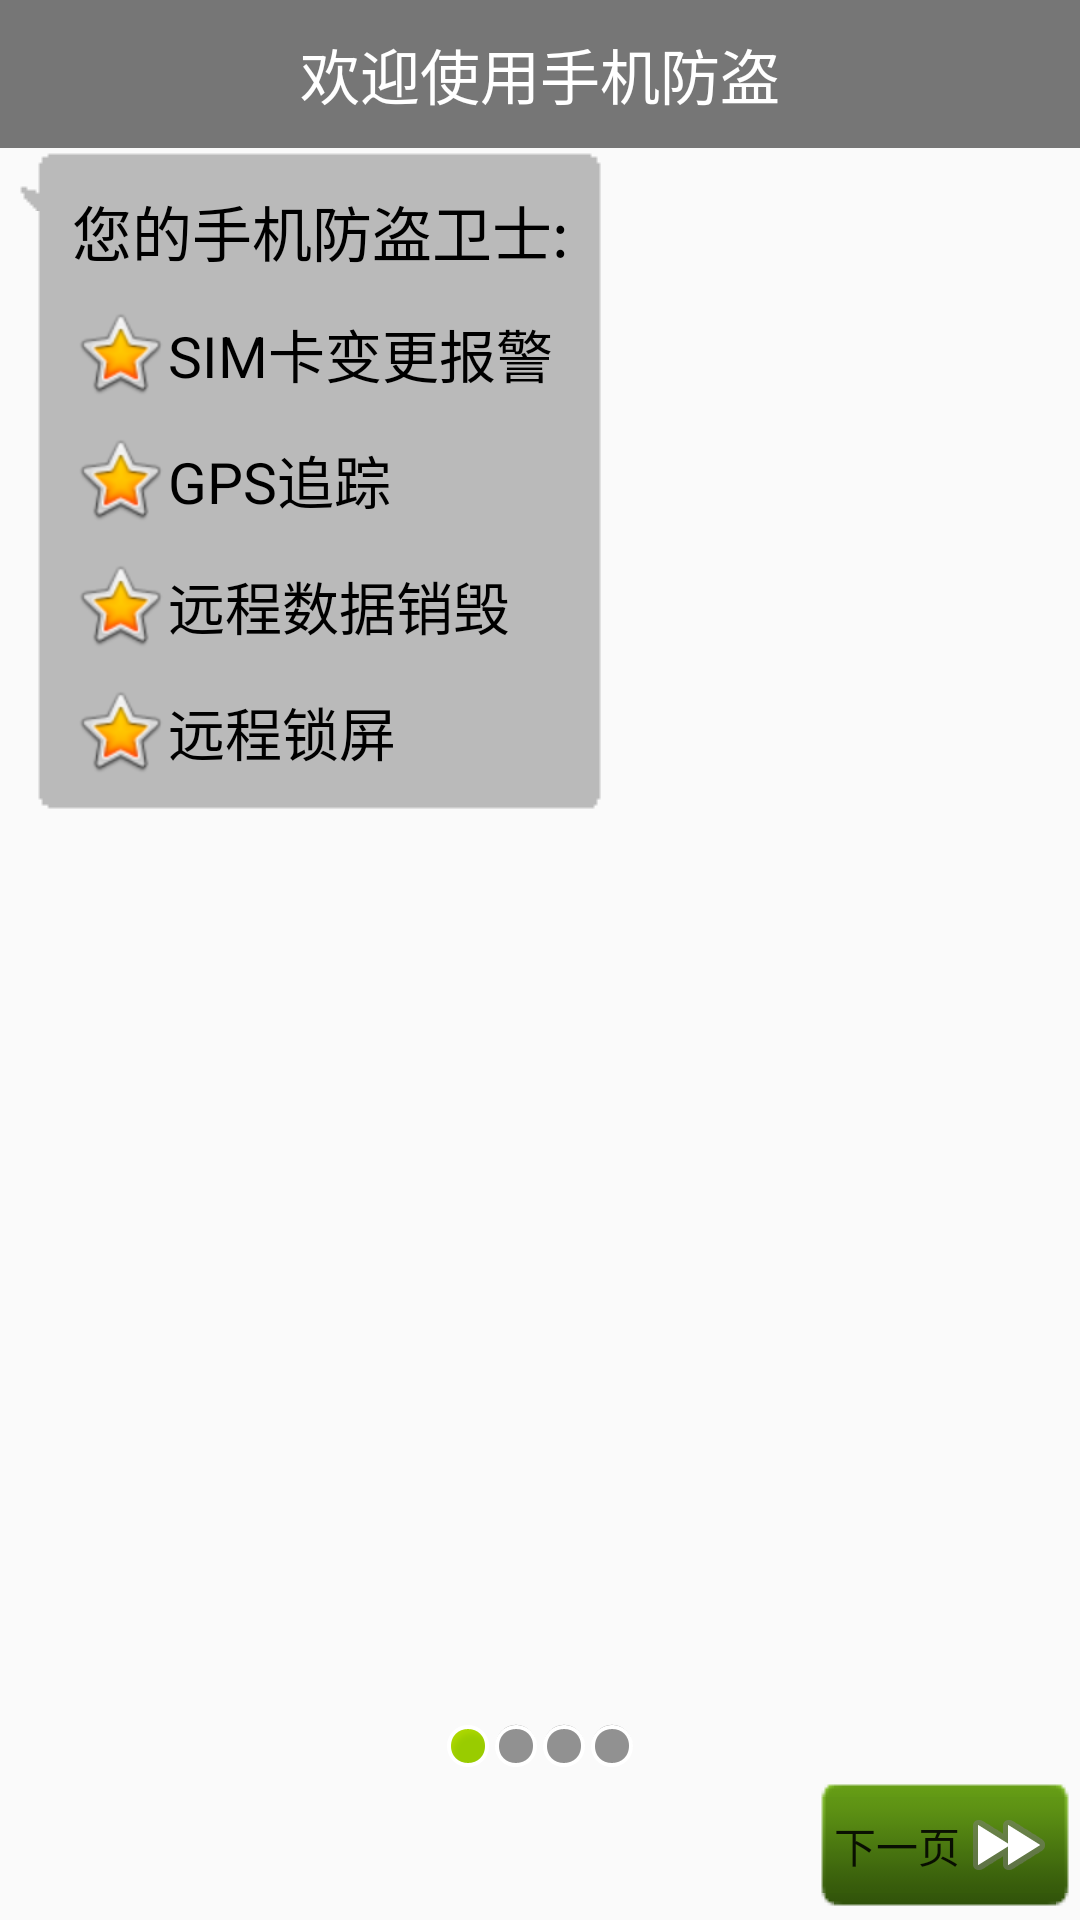

Icons on this 1080w x 1920h Android screen, each with its box as BBox(x1, y1, x2, y2):
presence invisible: BBox(499, 1725, 533, 1763), BBox(547, 1725, 581, 1763), BBox(595, 1725, 629, 1763)
presence online: BBox(451, 1729, 485, 1763)
